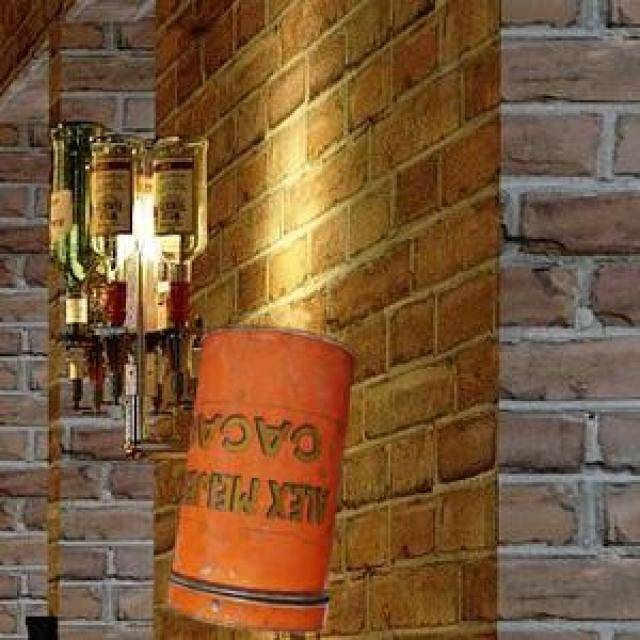logam: (163, 325, 353, 630)
